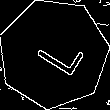L_NW: (24, 27, 83, 80)
